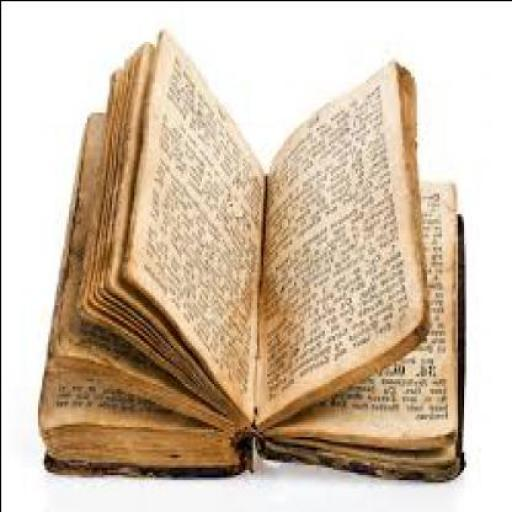paper: (36, 26, 467, 479), (254, 58, 428, 428), (39, 112, 221, 426), (121, 25, 268, 413), (264, 174, 461, 440)
